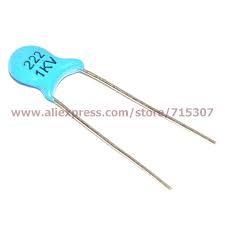ceramic capacitor: (3, 27, 129, 97)
